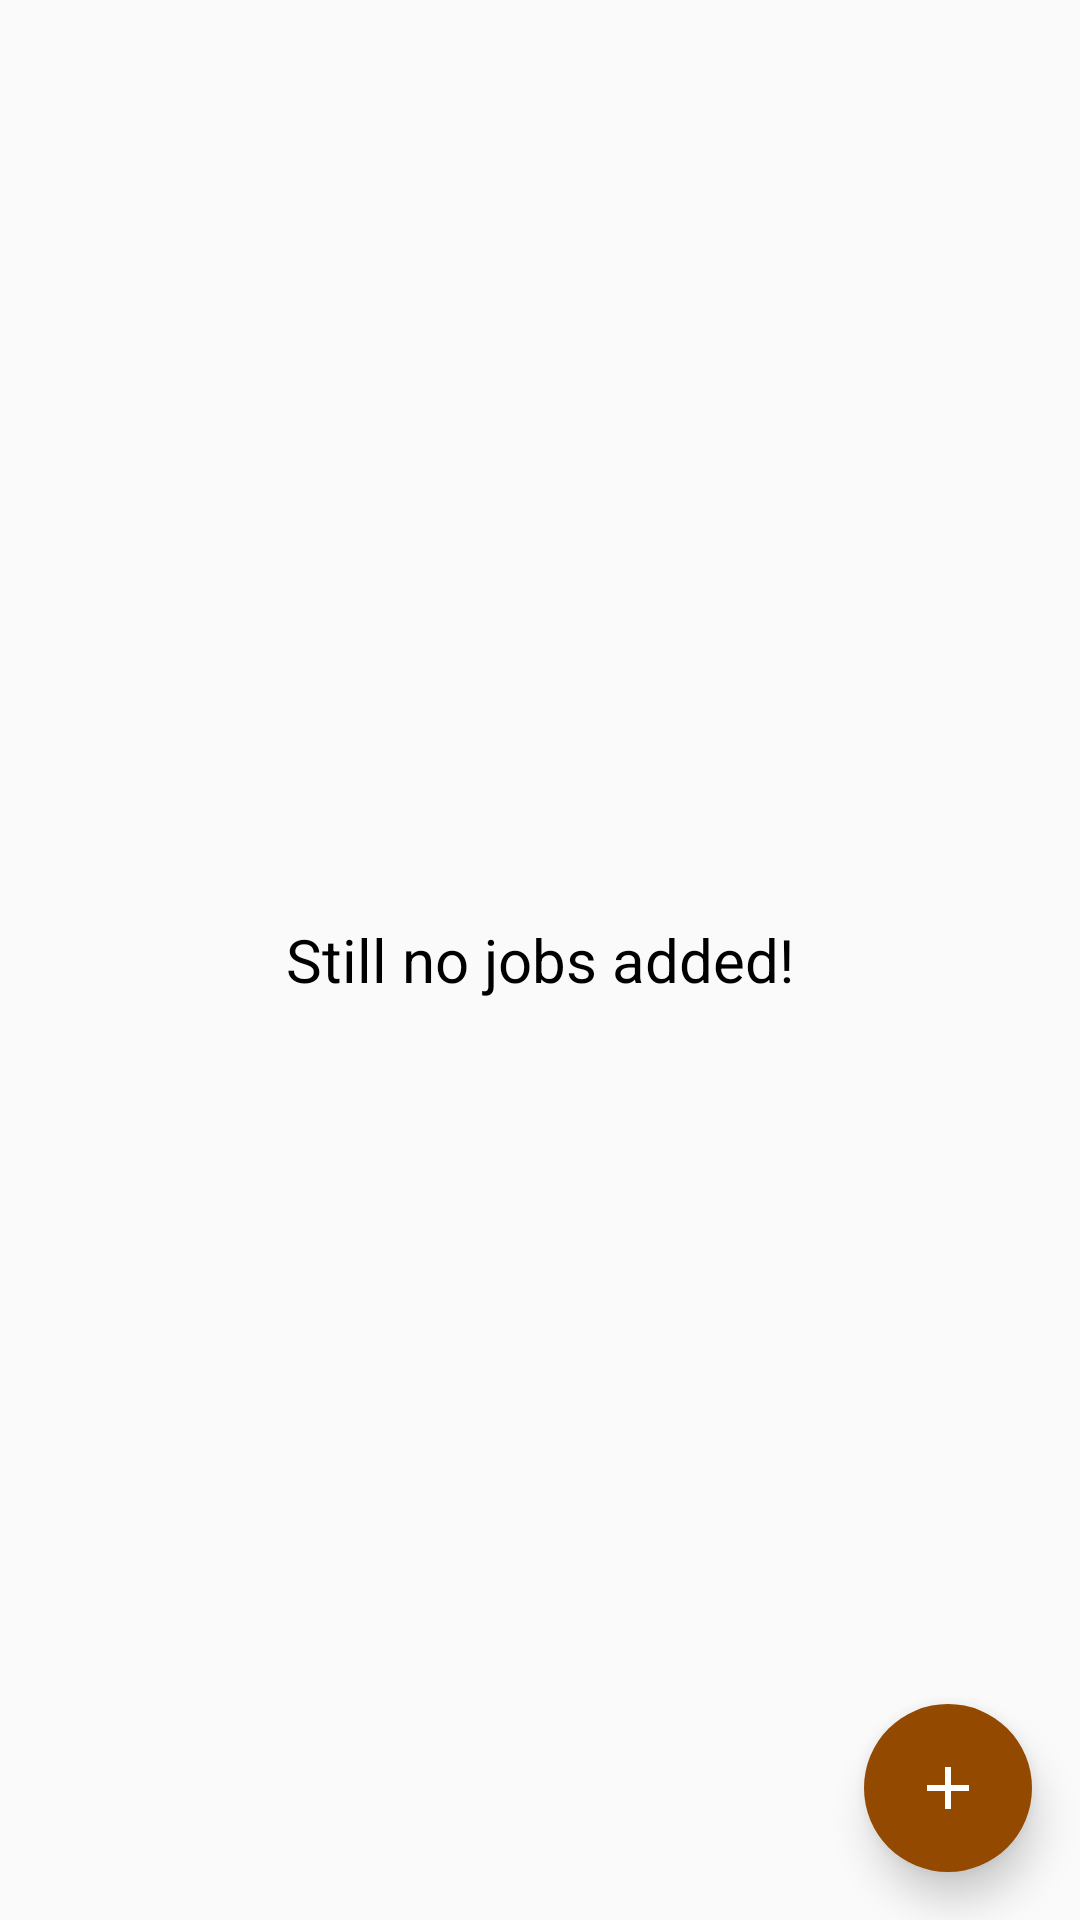

Where to tap for icons on this 1080px×1920px app screen, as [x,y]:
fab plus: [948,1788]
